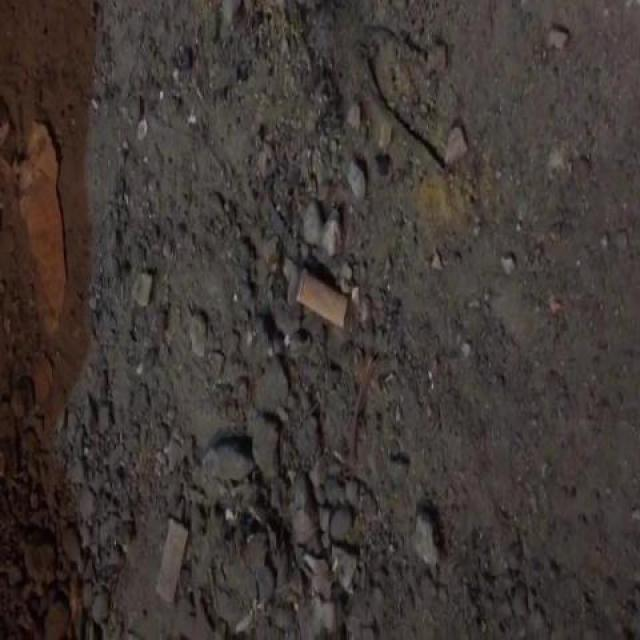non-organic waste: (293, 262, 352, 334)
